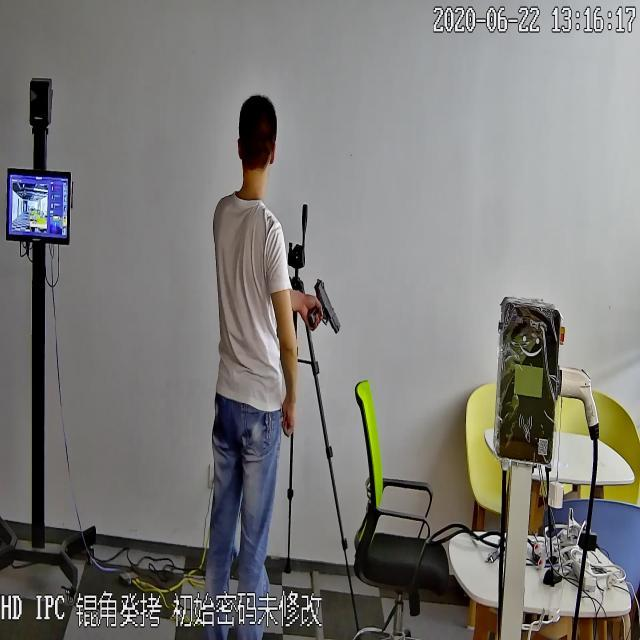gun-knife-thesis - v11 Yolov5 augmented: (305, 278, 343, 338)
